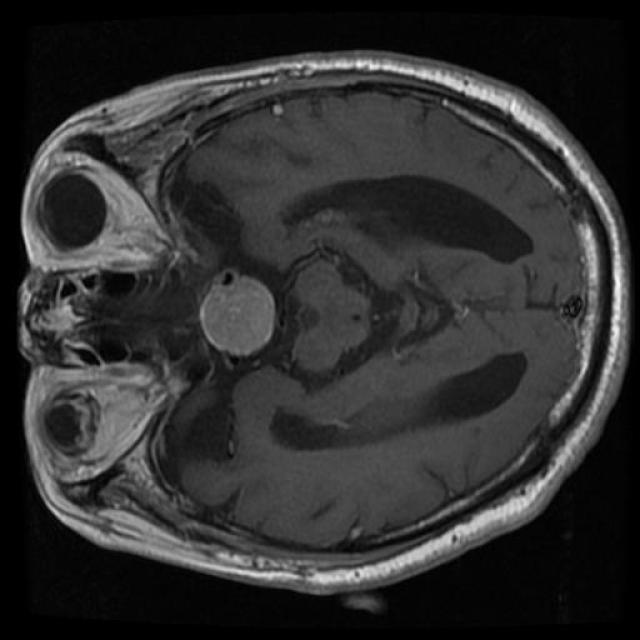Pituitary: (200, 269, 276, 358)
